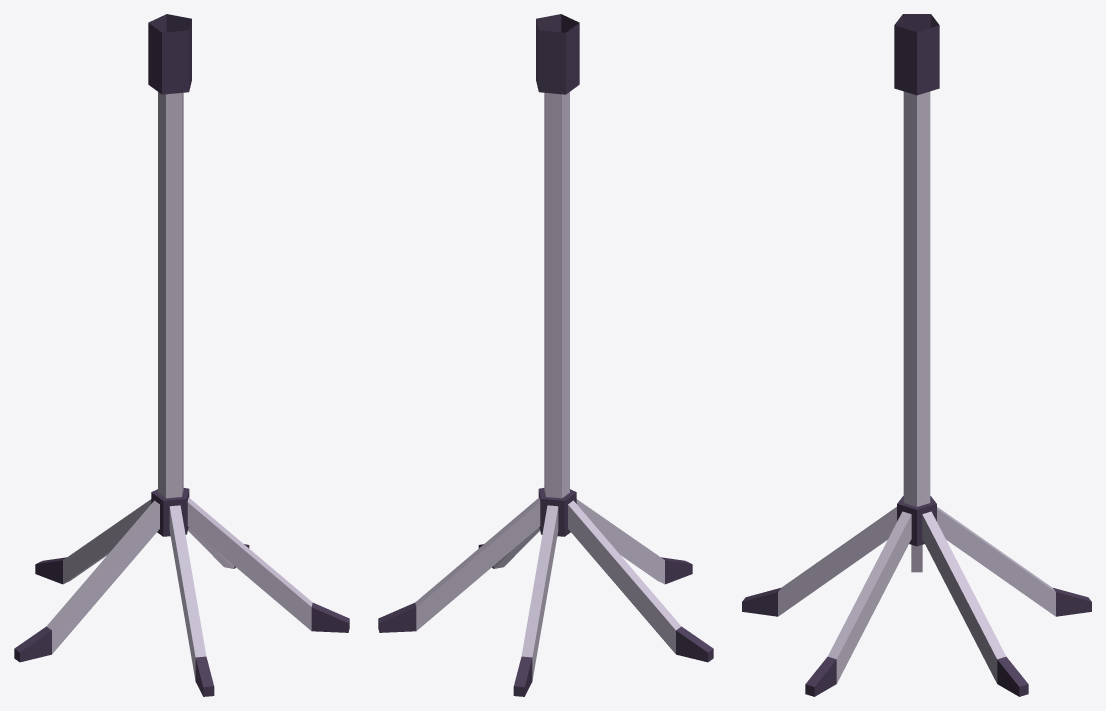
The model's file is FBX_PIED.fbx.
3 views of the same model, side by side, from view 1: azimuth 30°, elevation 25°; view 2: azimuth 150°, elevation 25°; view 3: azimuth 270°, elevation 25° (orthographic). The views are drawn at different scales.
Parts seen in each view (by area): view 1: pCylinder25; view 2: pCylinder25; view 3: pCylinder25.
Boxes of the visible parts, x1,y1,x2,y2 form: pCylinder25: [14, 14, 349, 696]; pCylinder25: [378, 14, 713, 696]; pCylinder25: [742, 14, 1091, 696].
Bounding box in the file's own units: 92.73 × 188 × 97.5.
